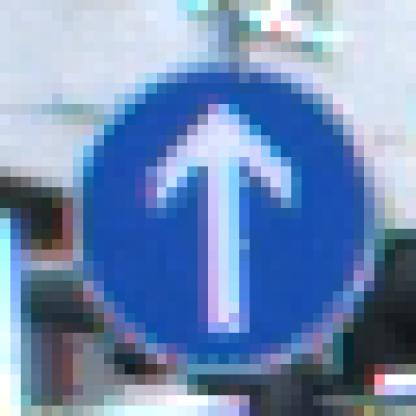AheadOnly: (64, 53, 355, 355)
